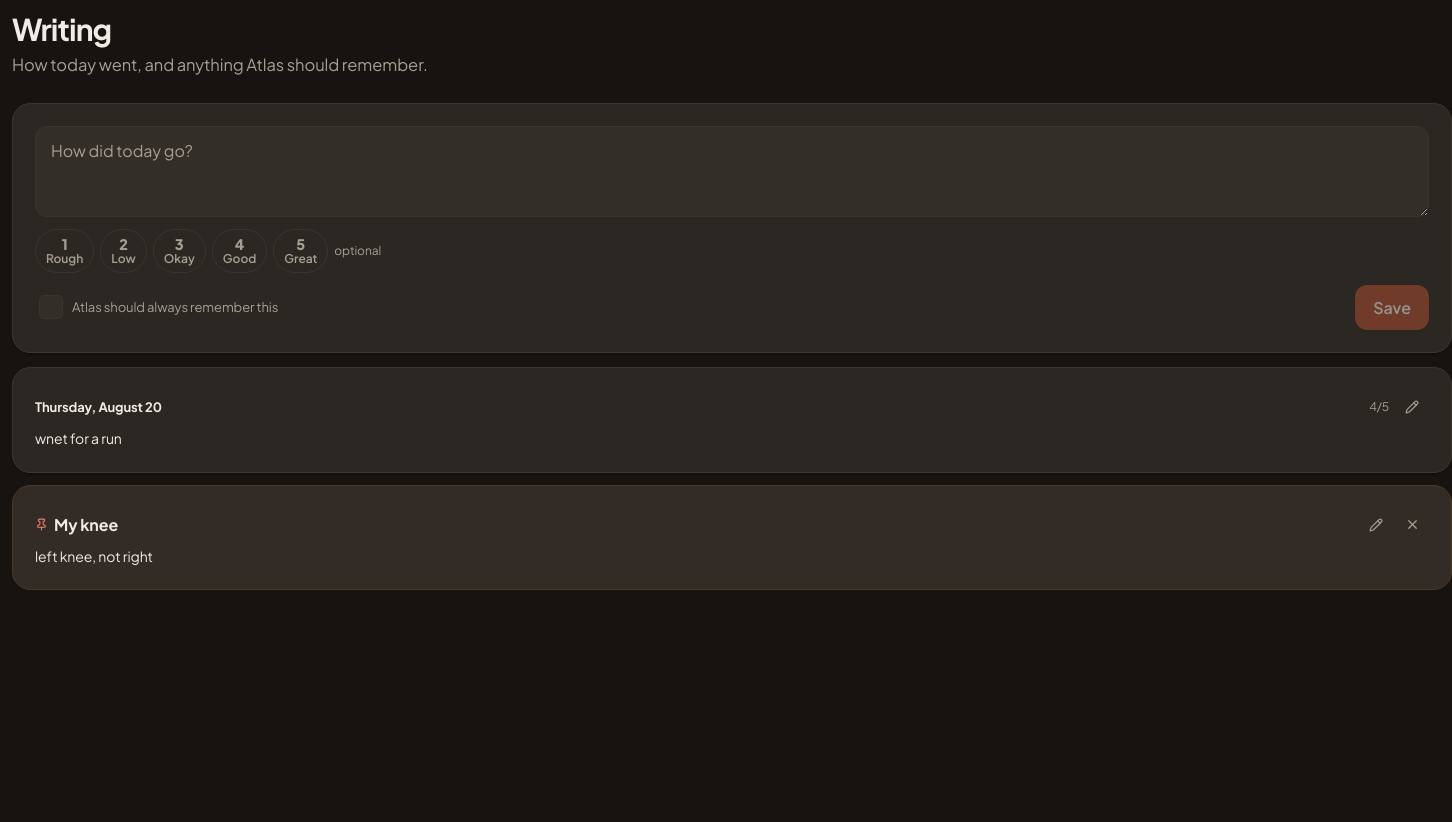
Scenario: editing what you have written › reopens an edit from the saved row, not from the abandoned draft
Click the button named "Edit " at (1412,407), box [1395,390,1429,424]
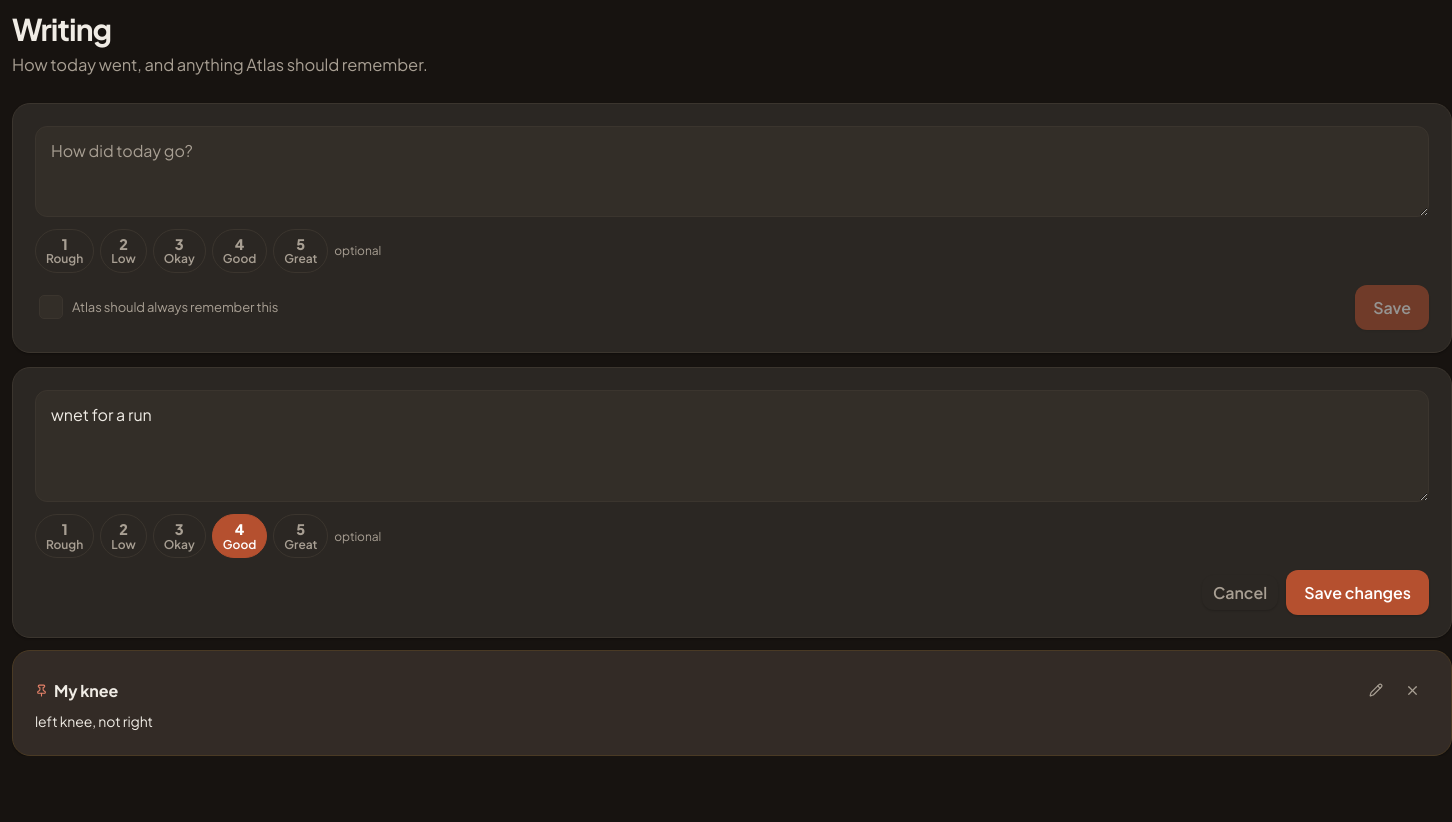
Type " rubbish" into the text box named "Edit " at (732,446), box [35,390,1429,502]
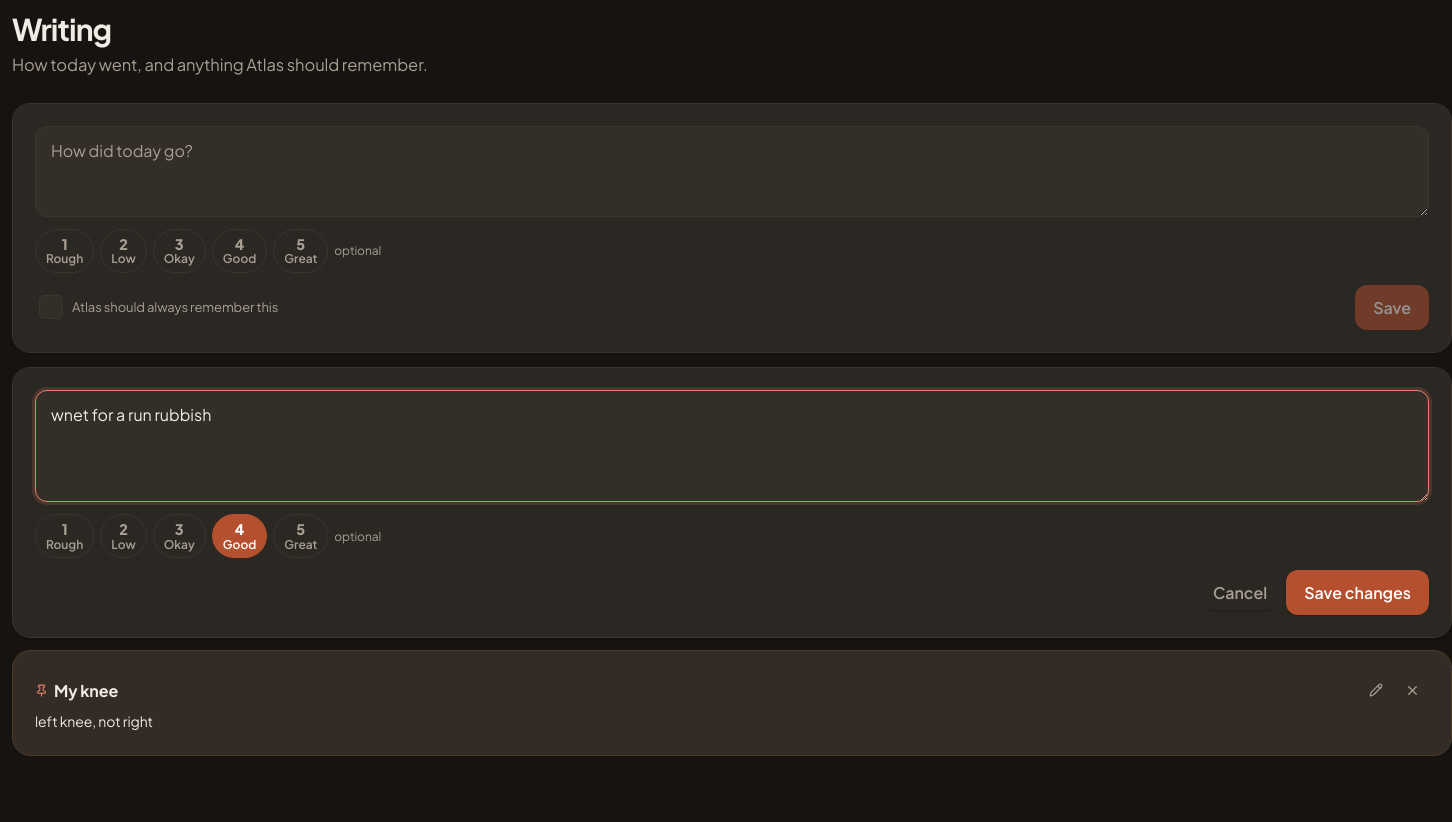
Click the button "Cancel" at (1240,593), box [1202,575,1278,610]
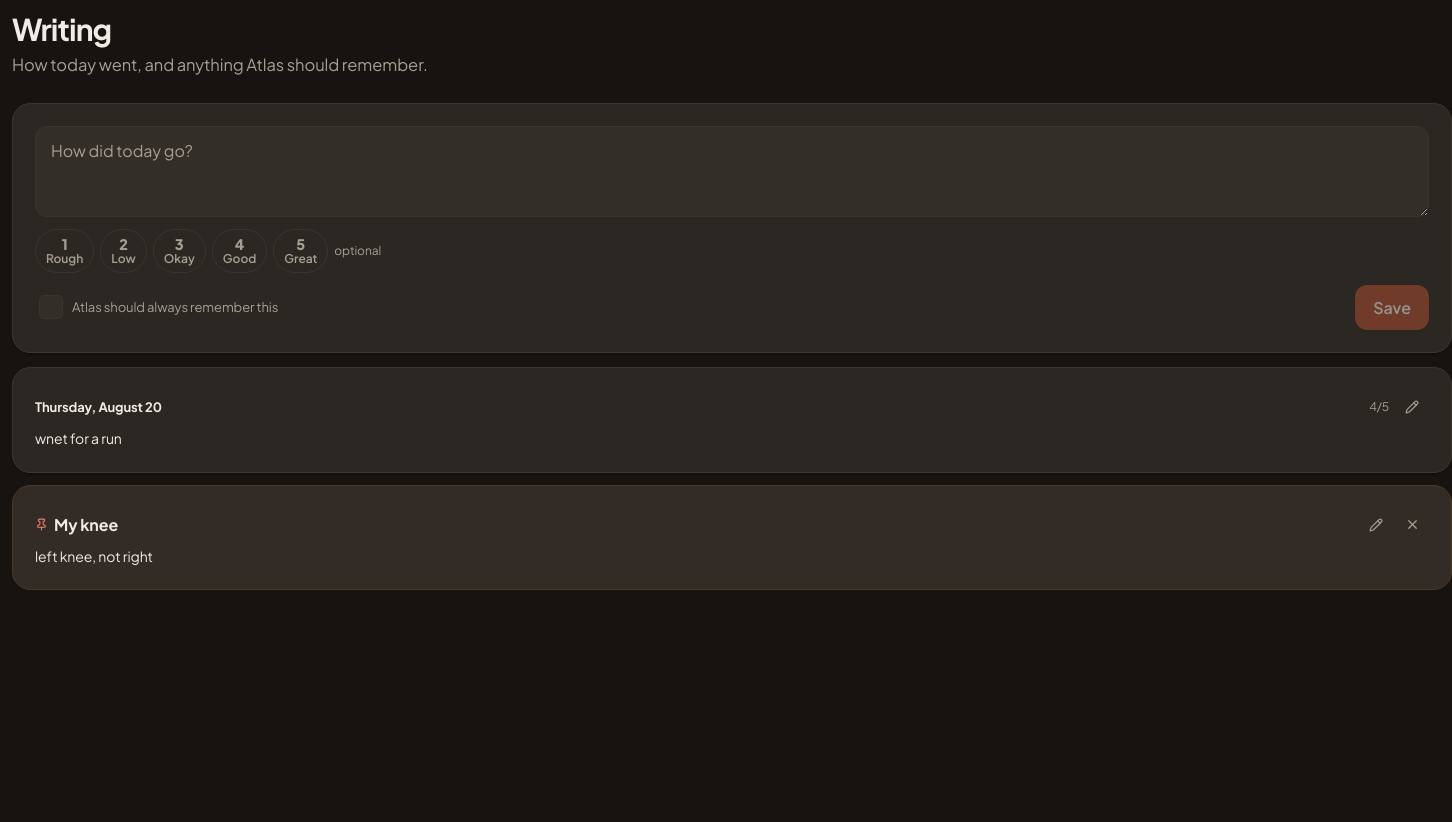
Click the button named "Edit " at (1412,407), box [1395,390,1429,424]
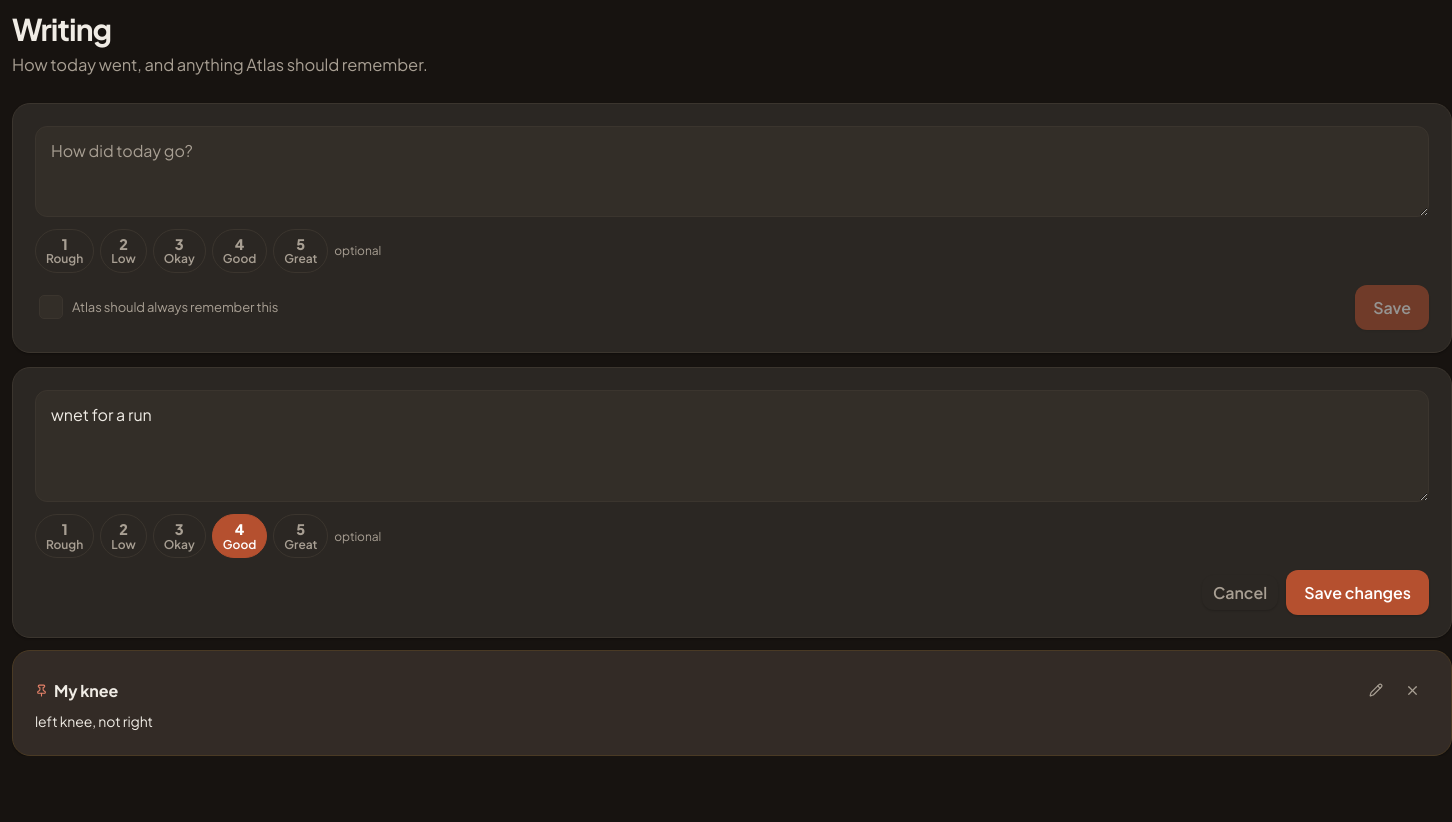
expect the text box named "Edit " holds "wnet for a run": met, box [35,390,1429,502]
